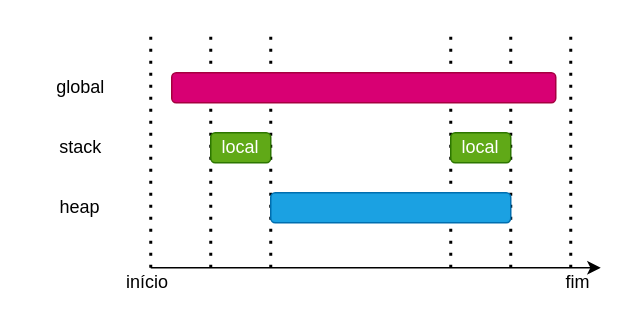
Some shapes in this 639 by 323 pixel diagram are drawn without their labels. Each missing label, with the centre of its shape:
malloc(): (390,207)
static: (363,87)
